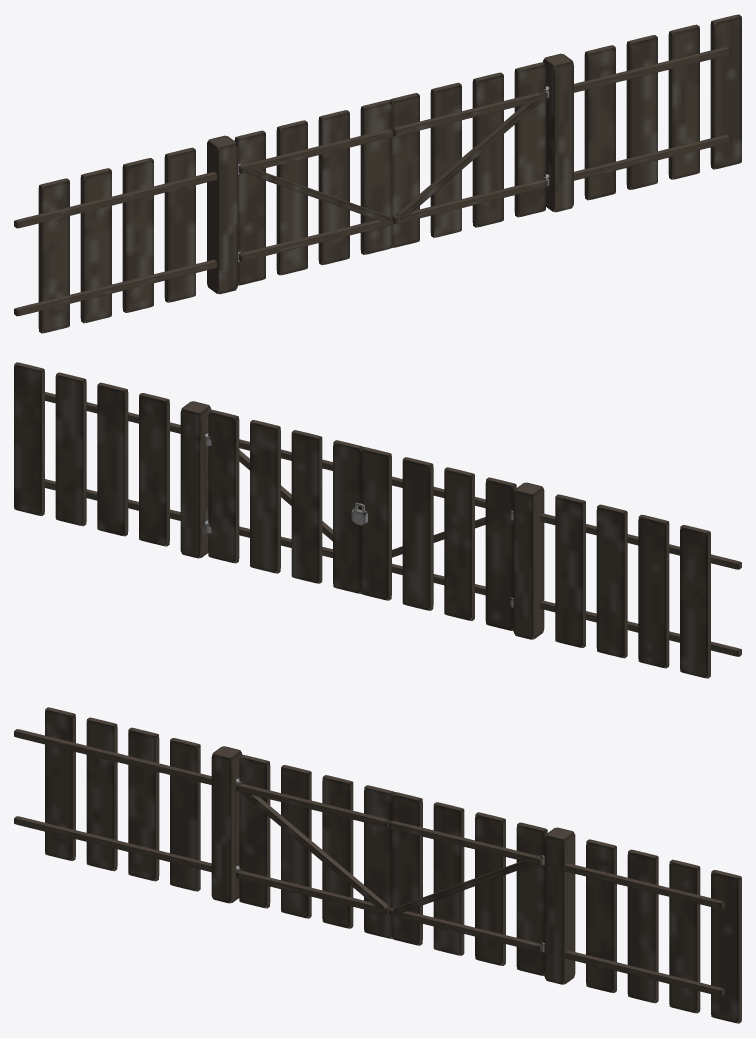
File: fence_basic_gate.fbx
3 views of the same model, one above another, from view 1: azimuth 30°, elevation 25°; view 2: azimuth 150°, elevation 25°; view 3: azimuth 330°, elevation 25° (orthographic).
Visible parts, largest first — view 1: fence_plank_9, gate_left, fence_plank_3, fence_plank_8, fence_plank_6, fence_plank_2, fence_plank_4, fence_plank_5, fence_plank_7, fence_plank_1, fence_plank, gate_right (+10 smaller); view 2: fence_plank_9, fence_plank_16, fence_plank_13, fence_plank_1, fence_plank_2, fence_plank_5, fence_plank_6, fence_plank_14, fence_plank, fence_plank_3, fence_plank_7, fence_plank_4 (+10 smaller); view 3: fence_plank_8, gate_right, fence_plank_3, fence_plank_9, fence_plank_2, fence_plank_1, fence_plank_5, fence_plank_6, fence_plank_7, fence_plank, fence_plank_4, gate_left (+10 smaller).
Part boxes in pixels (box(x1,y1,x2,y2)): fence_plank_9: box(207, 135, 237, 294); gate_left: box(392, 91, 547, 223); fence_plank_3: box(710, 14, 741, 169); fence_plank_8: box(543, 53, 573, 212); fence_plank_6: box(122, 158, 153, 312); fence_plank_2: box(668, 24, 699, 179); fence_plank_4: box(38, 178, 69, 333); fence_plank_5: box(80, 168, 111, 323); fence_plank_7: box(164, 147, 195, 302); fence_plank_1: box(626, 35, 657, 189); fence_plank: box(584, 45, 615, 200); gate_right: box(238, 129, 393, 261); fence_plank_9: box(513, 482, 544, 639); fence_plank_16: box(291, 430, 322, 583); fence_plank_13: box(402, 457, 433, 610); fence_plank_1: box(97, 382, 128, 536); fence_plank_2: box(55, 372, 86, 526); fence_plank_5: box(638, 514, 669, 668); fence_plank_6: box(596, 504, 627, 658); fence_plank_14: box(208, 409, 239, 563); fence_plank: box(139, 393, 169, 546); fence_plank_3: box(14, 362, 44, 515); fence_plank_7: box(555, 494, 585, 647); fence_plank_4: box(680, 525, 710, 678); fence_plank_8: box(544, 827, 575, 984); gate_right: box(236, 783, 390, 914); fence_plank_3: box(711, 870, 741, 1023); fence_plank_9: box(211, 746, 242, 903); fence_plank_2: box(669, 859, 700, 1013); fence_plank_1: box(627, 849, 658, 1003); fence_plank_5: box(86, 717, 117, 871); fence_plank_6: box(128, 727, 159, 881); fence_plank_7: box(170, 738, 200, 891); fence_plank: box(586, 839, 616, 992); fence_plank_4: box(45, 707, 75, 860); gate_left: box(388, 820, 542, 951).
Size of the model in its own units: 162 by 31.25 by 4.38.
Materials: 1 (1 with a texture image).
